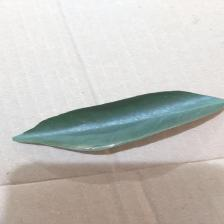healthy: (12, 88, 224, 154)
